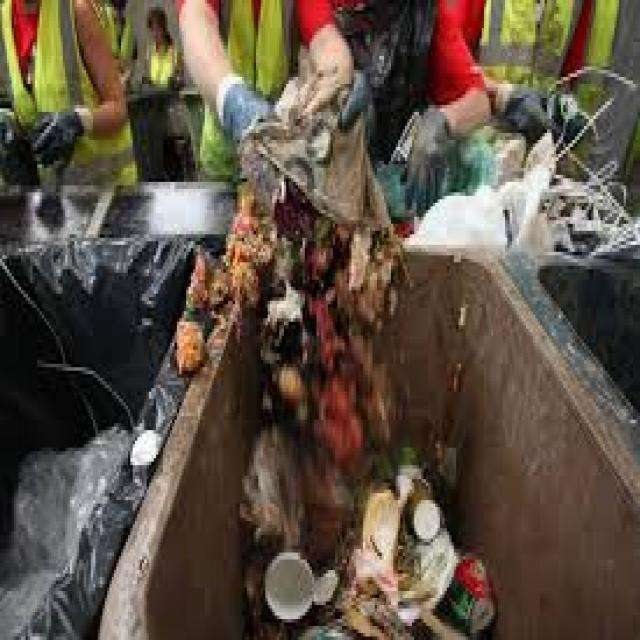Wet: (147, 185, 512, 640), (239, 213, 472, 640)
